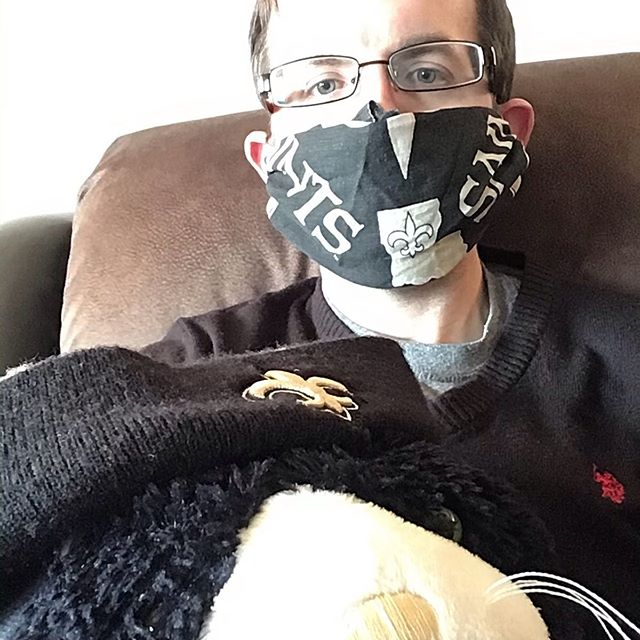homemade: (242, 122, 514, 285)
